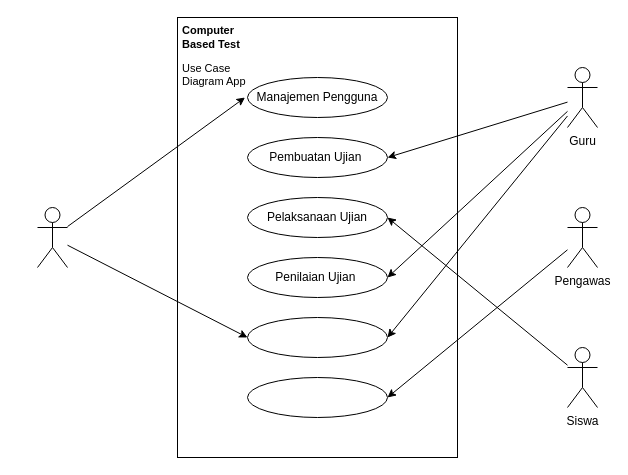
Some shapes in this 628 by 475 pixel diagram are drawn without their labels. The centre of each missing label's shape, as x and y in pixels:
Administrator: (52,237)
Pelaporan dan Análisis: (317,337)
Pengawasan Ujian: (317,397)
